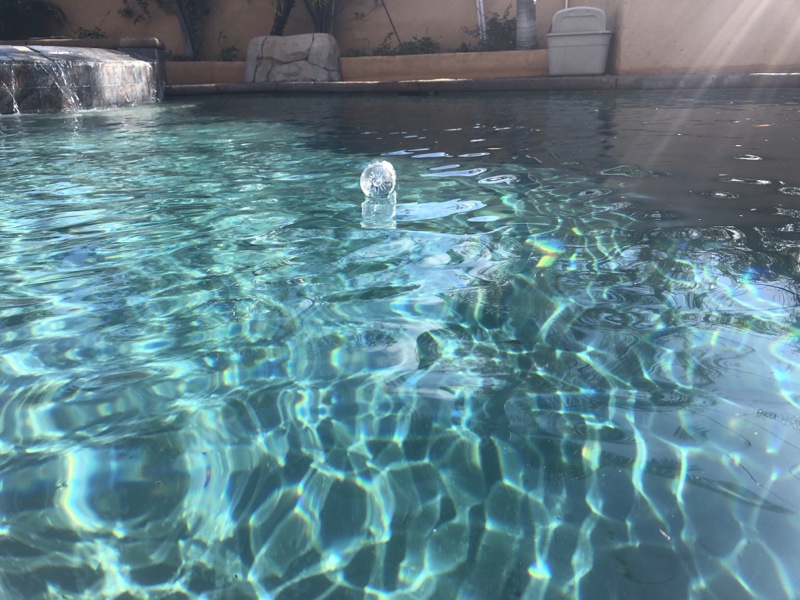Plastic Bottle: (357, 157, 397, 203)
